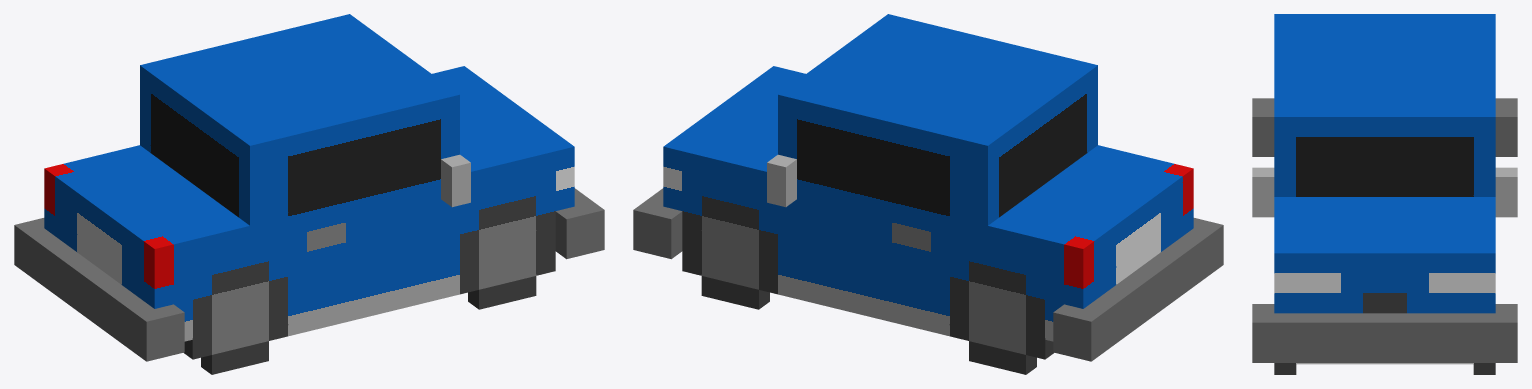
The model's file is veh_mini5.fbx.
3 views of the same model, side by side, from view 1: azimuth 30°, elevation 25°; view 2: azimuth 150°, elevation 25°; view 3: azimuth 270°, elevation 25° (orthographic).
Visible parts, largest first — view 1: veh_mini5; view 2: veh_mini5; view 3: veh_mini5.
Boxes of the visible parts, bbox=[...] form: veh_mini5: bbox=[14, 14, 604, 374]; veh_mini5: bbox=[633, 14, 1223, 374]; veh_mini5: bbox=[1252, 14, 1517, 374].
Bounding box in the file's own units: 2.4 × 1.2 × 1.1.
Materials: 1 (1 with a texture image).
